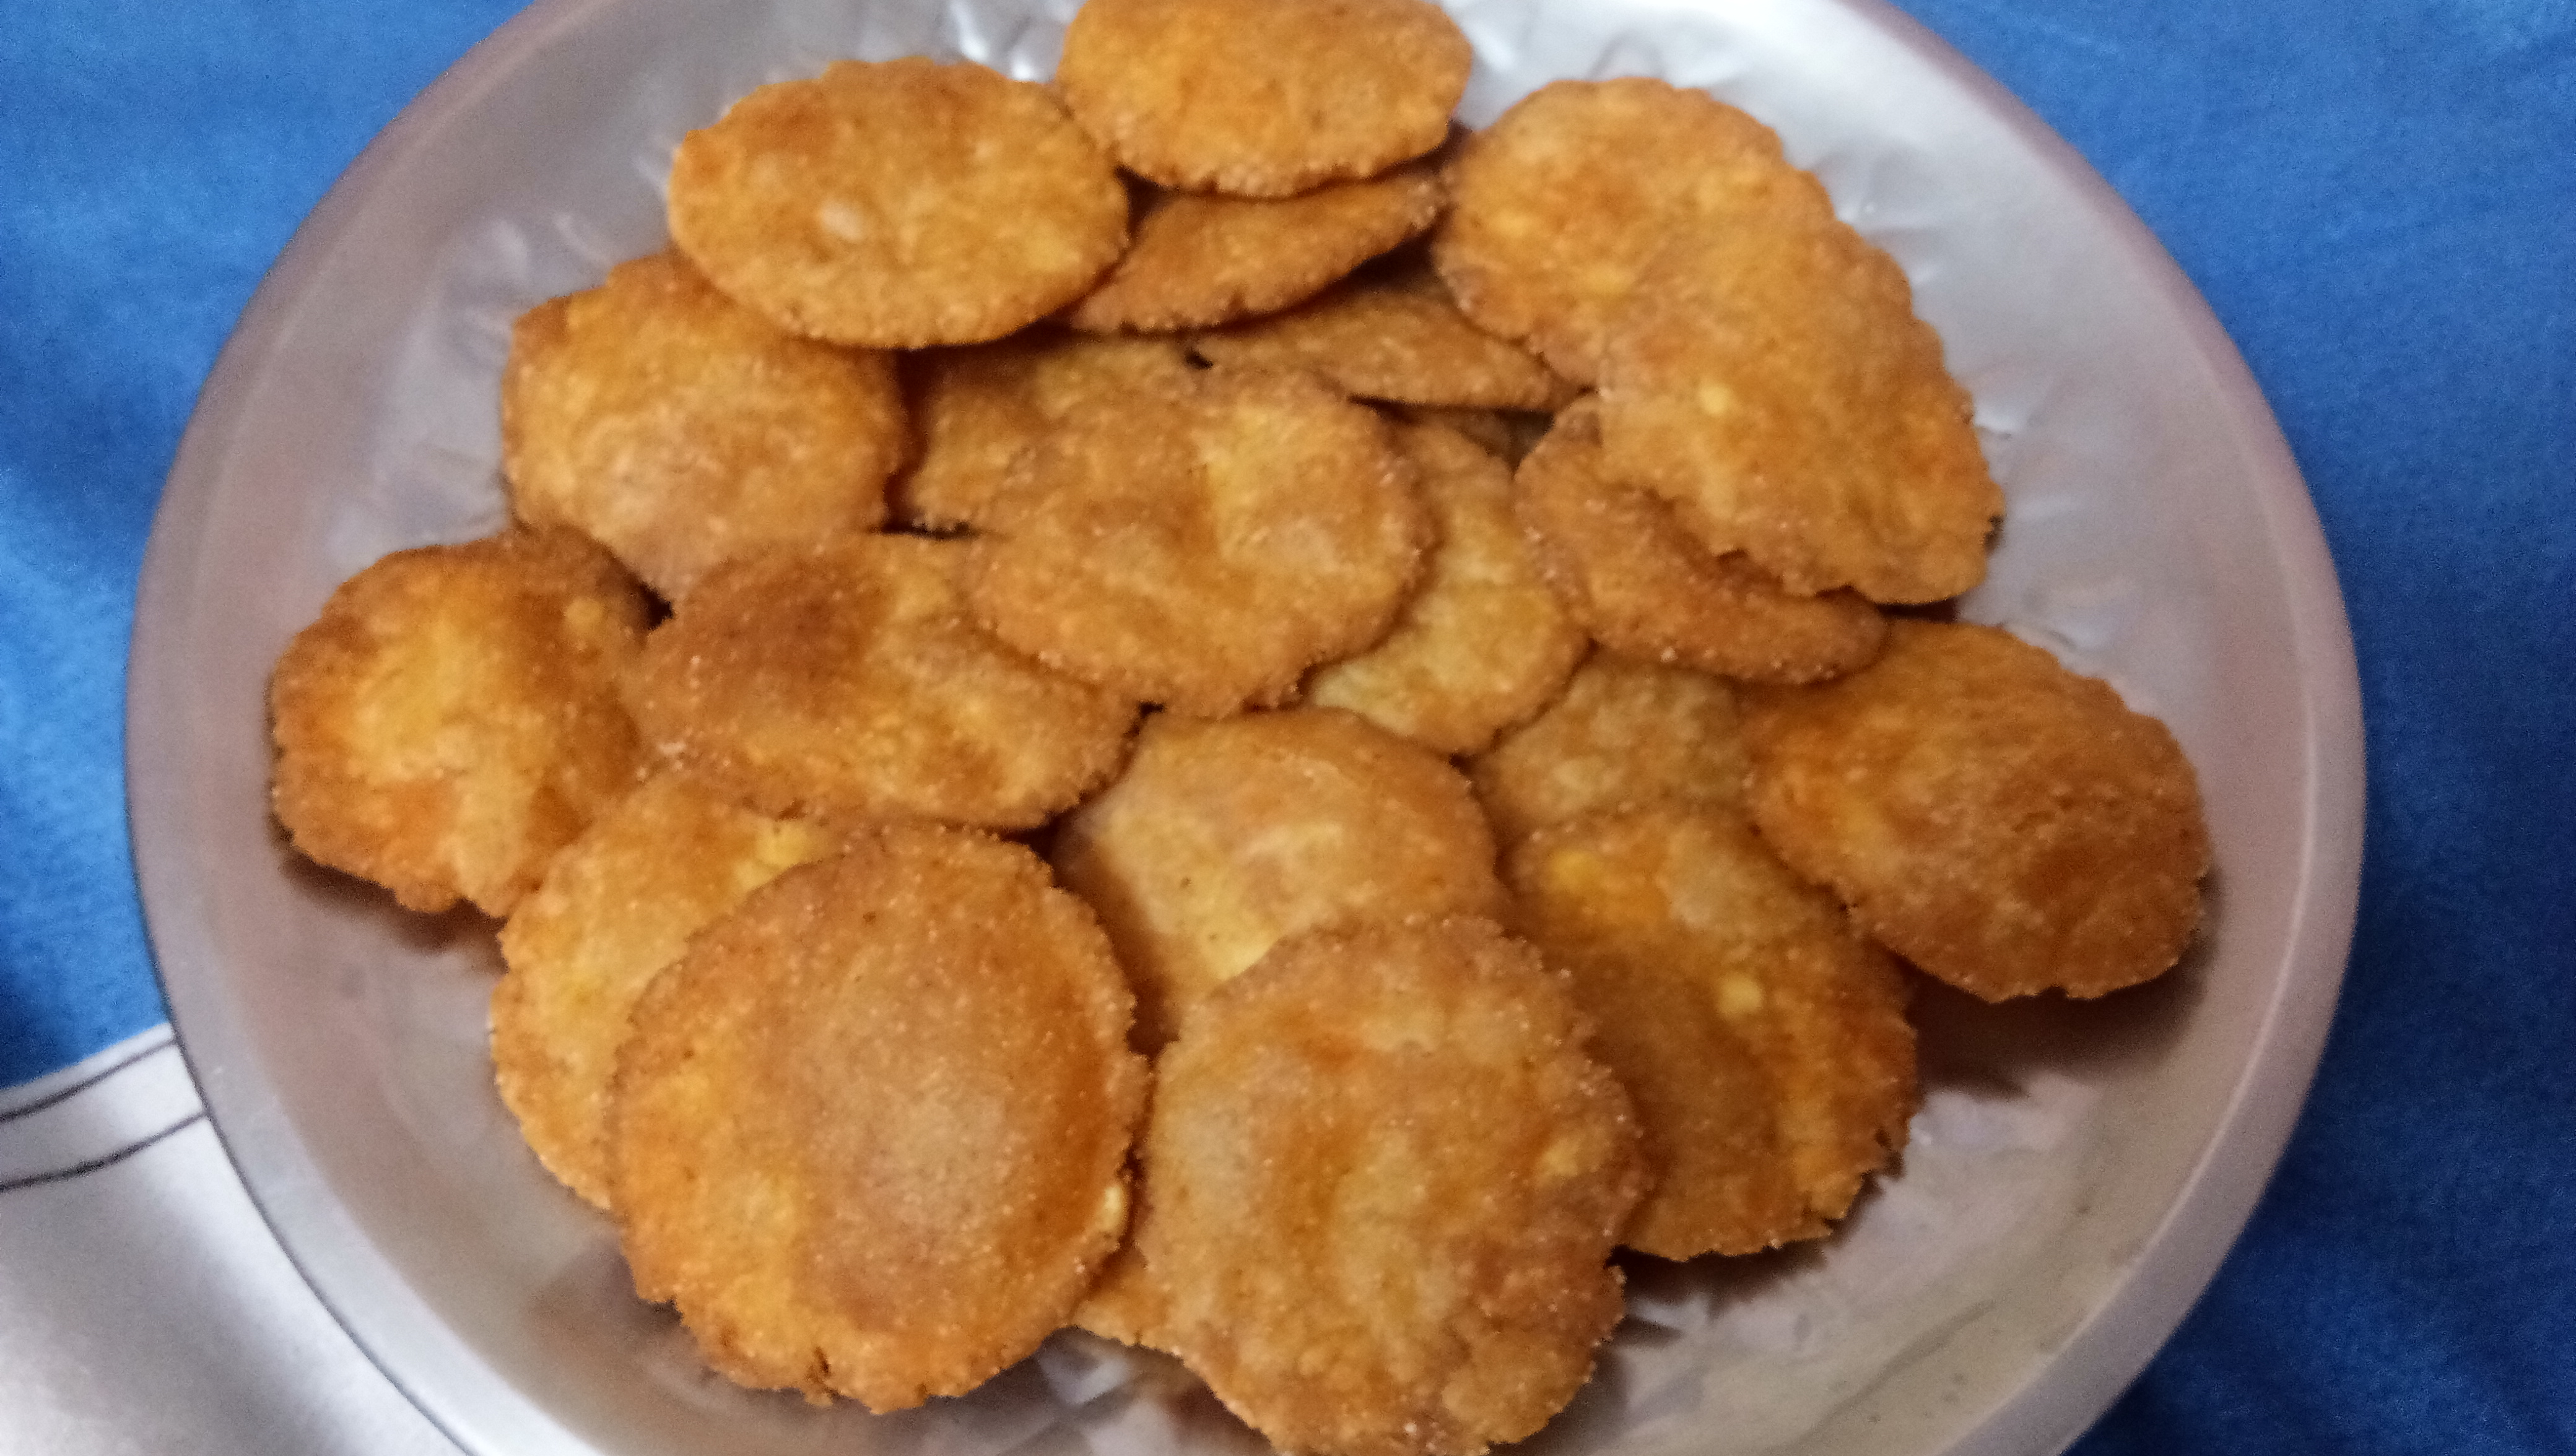food: (253, 0, 2226, 1456)
